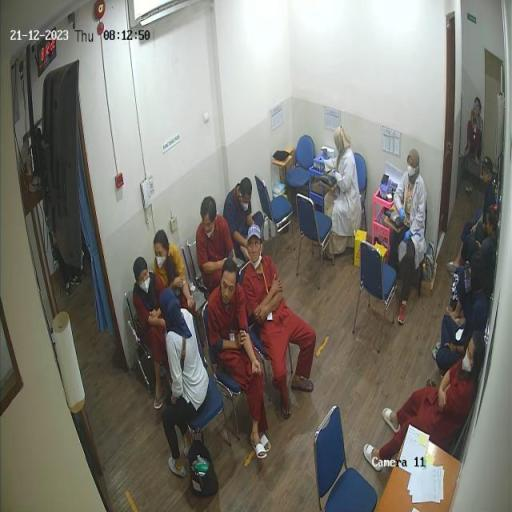person: (365, 333, 486, 471), (240, 227, 317, 418), (208, 260, 272, 458), (159, 289, 210, 477), (132, 259, 188, 412), (392, 148, 429, 325), (437, 254, 489, 372), (154, 230, 205, 347), (448, 205, 500, 317), (448, 158, 496, 274), (324, 127, 363, 256), (197, 197, 237, 294), (224, 179, 261, 263), (466, 97, 484, 167)
